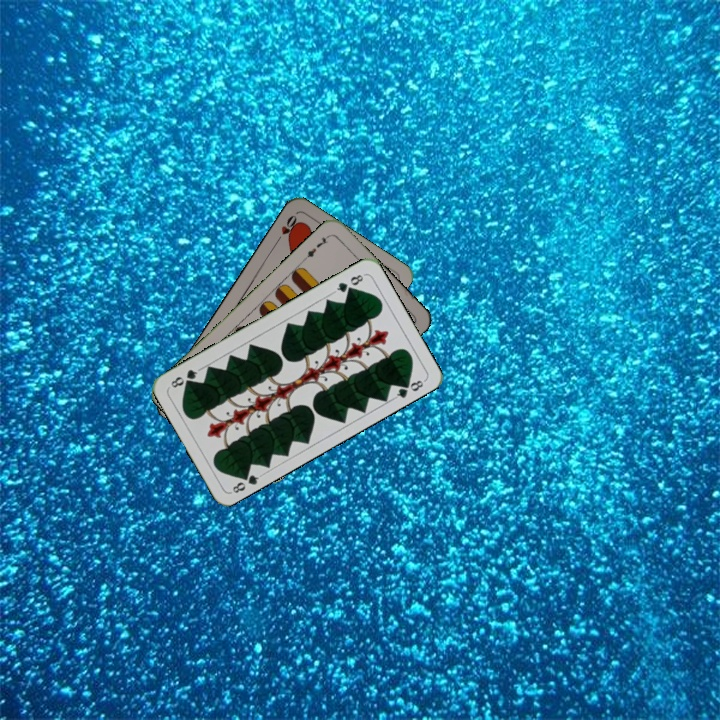E7: (300, 231, 332, 263)
G8: (227, 467, 265, 496), (330, 270, 367, 296)
HO: (272, 211, 301, 246)
